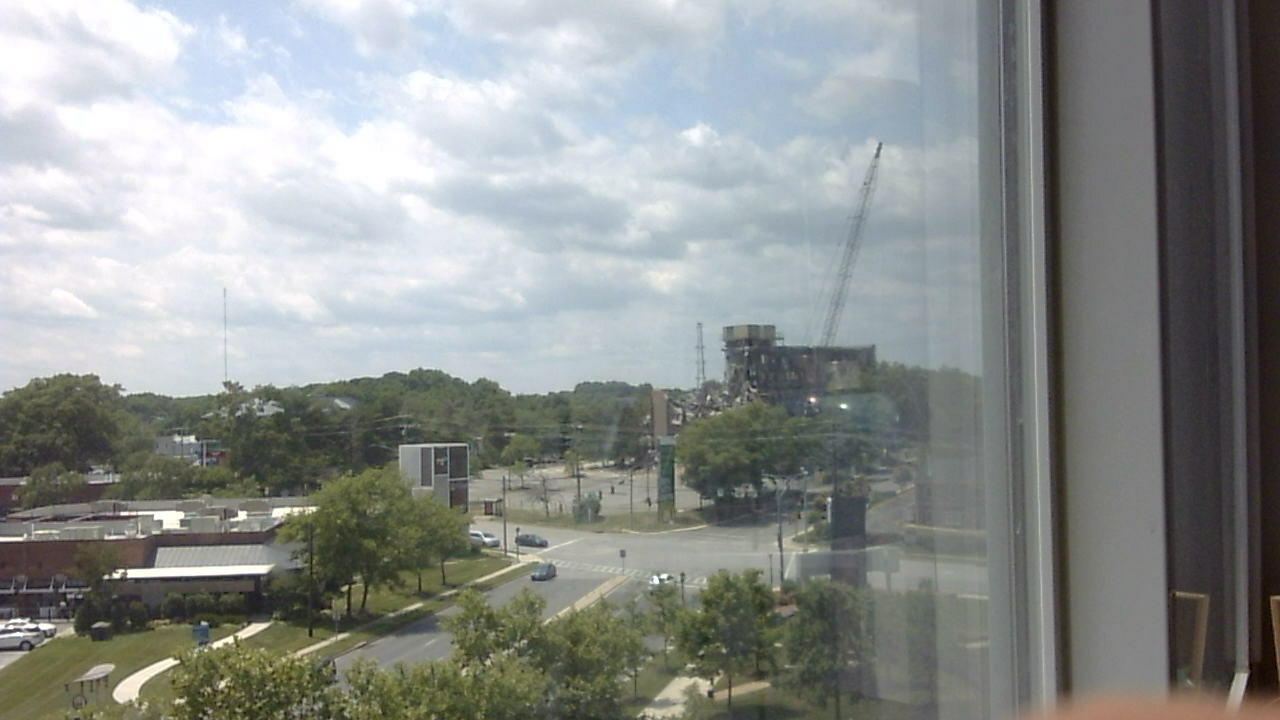Car: (649, 569, 681, 608), (533, 559, 562, 596), (470, 530, 508, 552), (521, 532, 551, 553)
